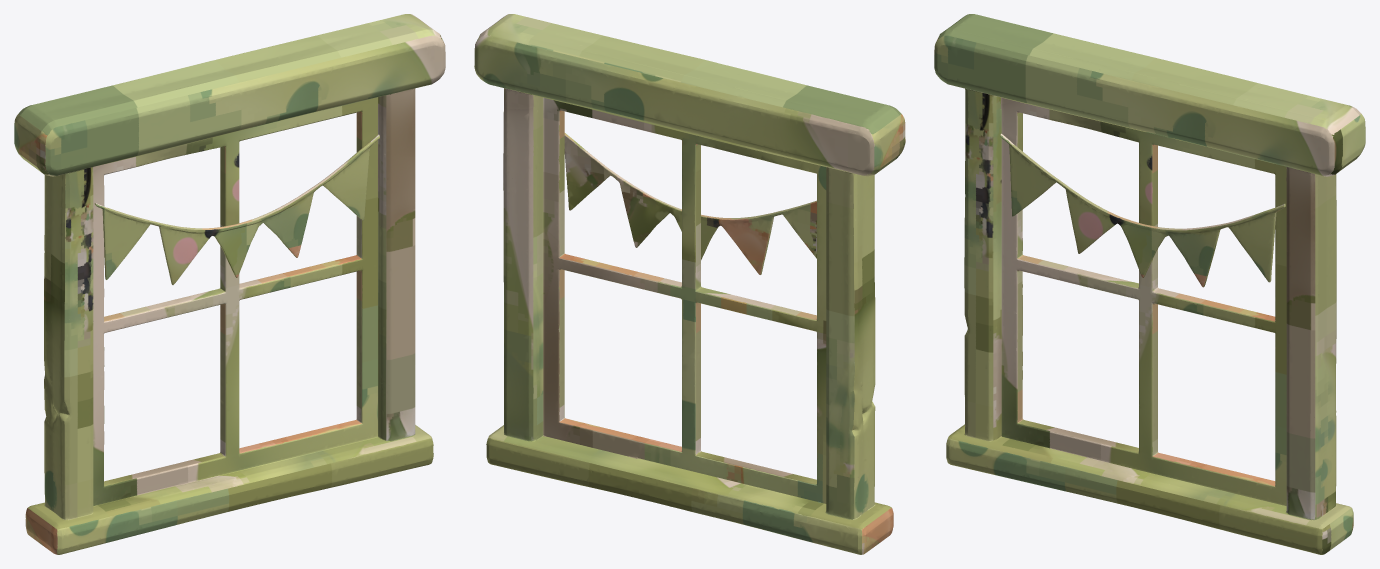
Rendered from Window.fbx.
The picture shows the model from 3 angles, left to right: view 1: azimuth 30°, elevation 25°; view 2: azimuth 150°, elevation 25°; view 3: azimuth 330°, elevation 25°; orthographic projection.
Visible parts, largest first — view 1: model; view 2: model; view 3: model.
Boxes of the visible parts, left/top/right/bottom form: model: left=14, top=14, right=445, bottom=554; model: left=474, top=14, right=905, bottom=554; model: left=934, top=14, right=1365, bottom=554.
Bounding box in the file's own units: 184 × 190 × 26.36.
